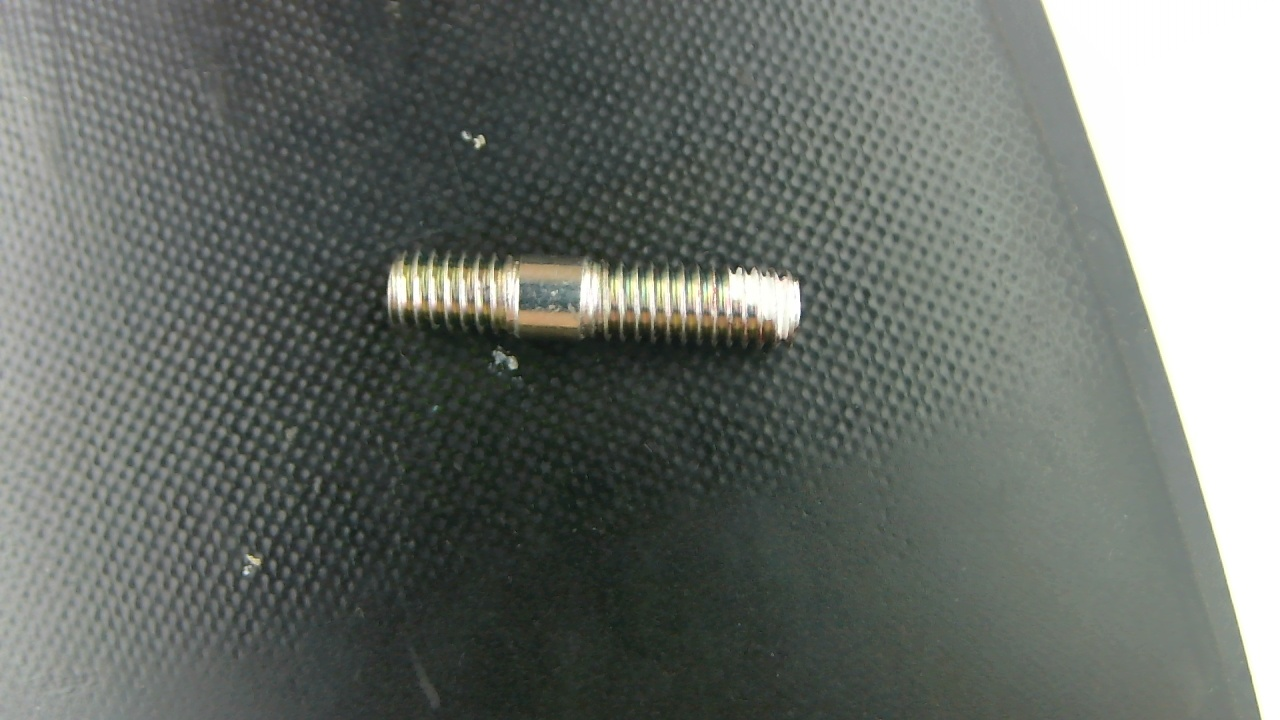Stud_Thread_Missing: (730, 273, 803, 336)
